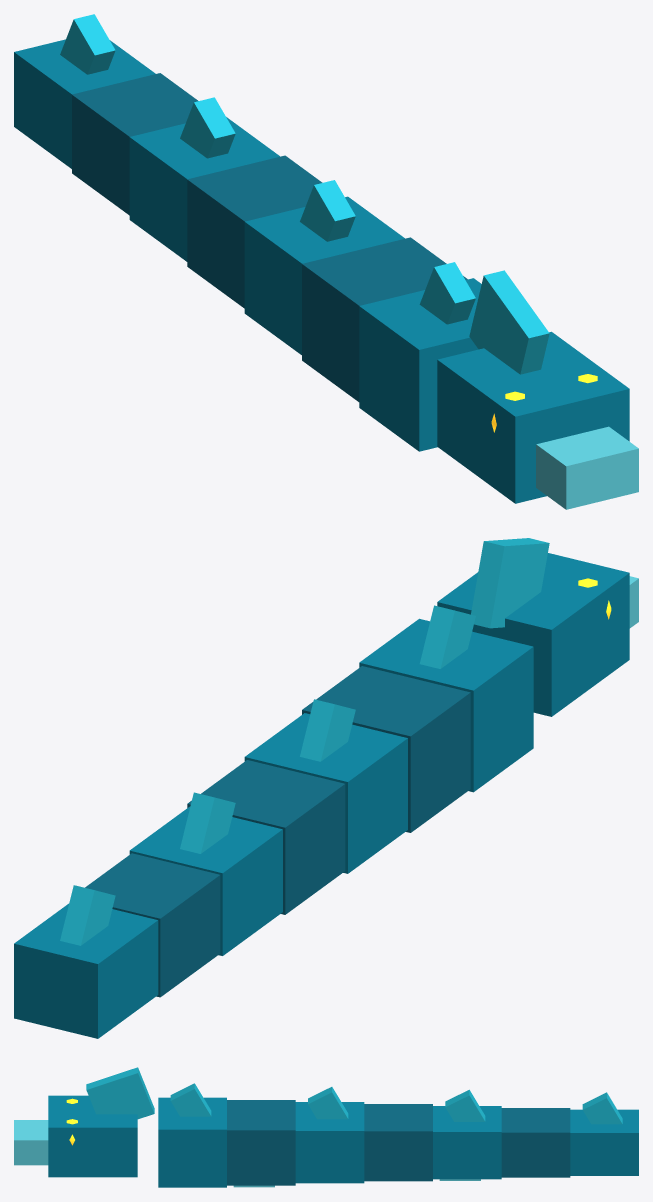
The model's file is SeaSnakeA.glb.
3 views of the same model, one above another, from view 1: azimuth 30°, elevation 25°; view 2: azimuth 150°, elevation 25°; view 3: azimuth 270°, elevation 25° (orthographic). The views are drawn at different scales.
Visible parts, largest first — view 1: SeaSnakeBody; view 2: SeaSnakeBody; view 3: SeaSnakeBody.
Boxes of the visible parts, box(x1,y1,x2,y2) form: SeaSnakeBody: box(14, 14, 638, 509); SeaSnakeBody: box(14, 538, 638, 1038); SeaSnakeBody: box(14, 1067, 638, 1187).
Size of the model in its own units: 0.23 by 0.3429 by 1.82.
